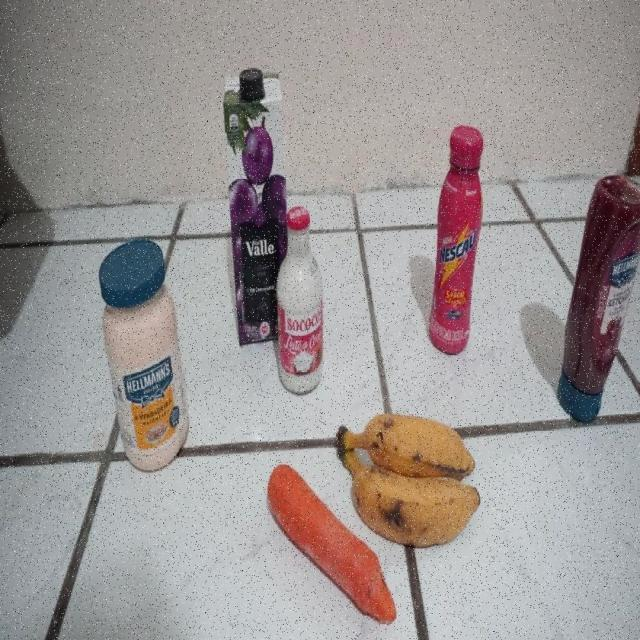Banana: (340, 416, 485, 545)
Carrot: (265, 459, 338, 577)
ChocolateMilk: (430, 122, 482, 353)
CoconutMilk: (272, 203, 328, 403)
Ketchup: (556, 168, 640, 432)
Mayonnaise: (98, 238, 192, 474)
